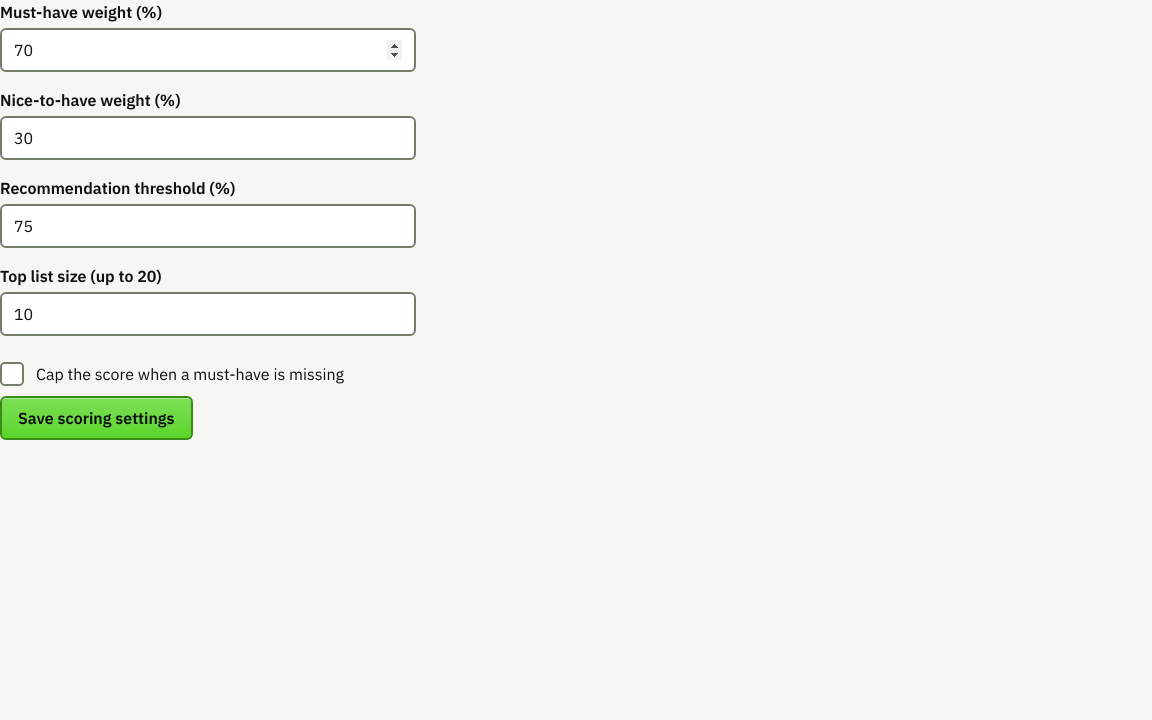
Test: scoring settings › saves every value and confirms in a popup
Expected: the number field showing "75" is shown, [0,204,416,248]
Replace the text in the number field labelled "Must-have weight (%)" with "60": {"x": 208, "y": 50} [0,28,416,72]
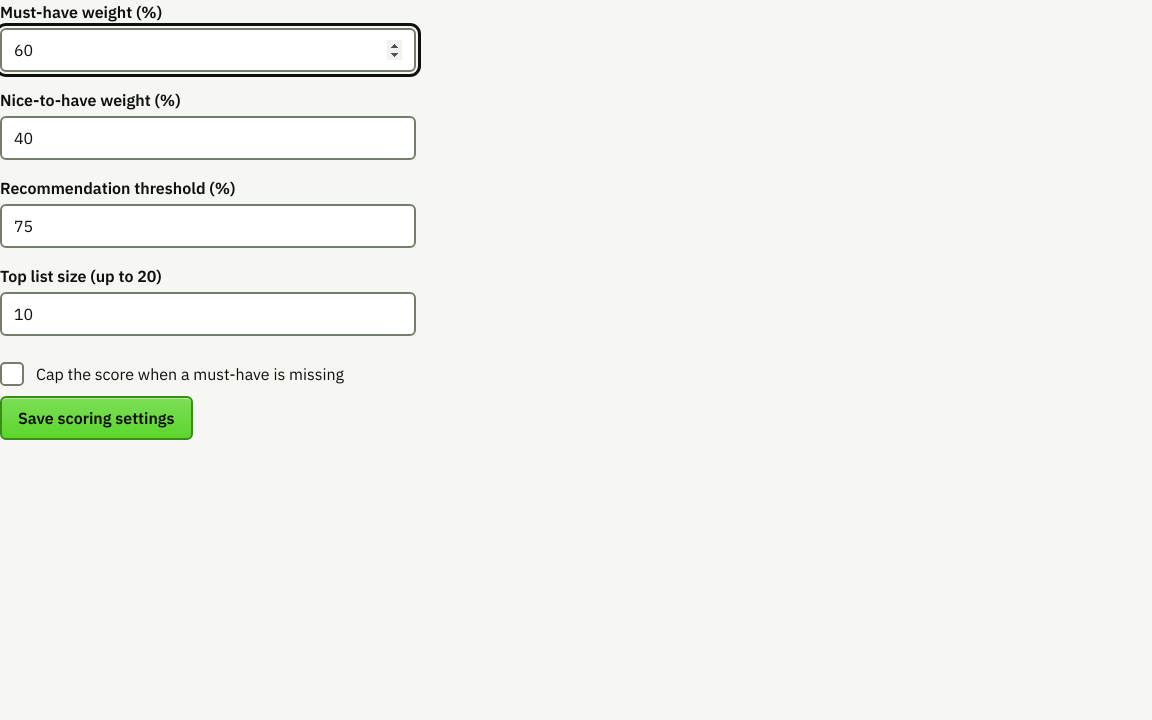
Replace the text in the number field labelled "Top list size (up to 20)" with "5": {"x": 208, "y": 314} [0,292,416,336]
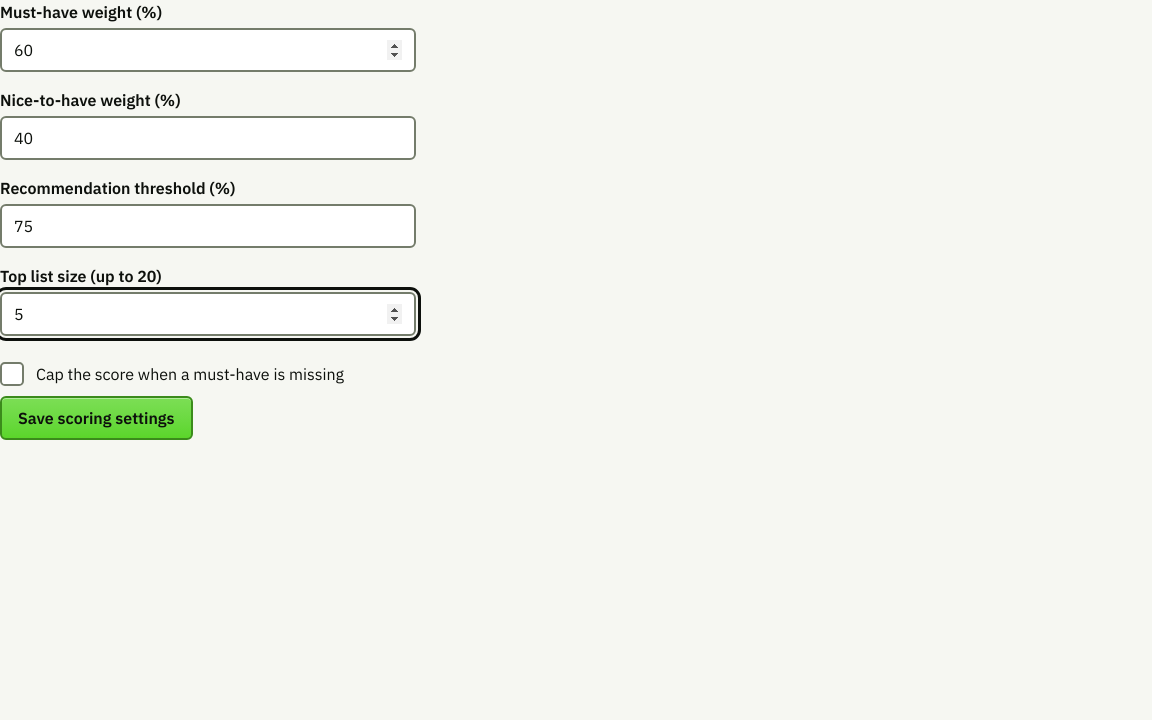
Click the button "Save scoring settings": {"x": 96, "y": 418} [0,396,192,440]
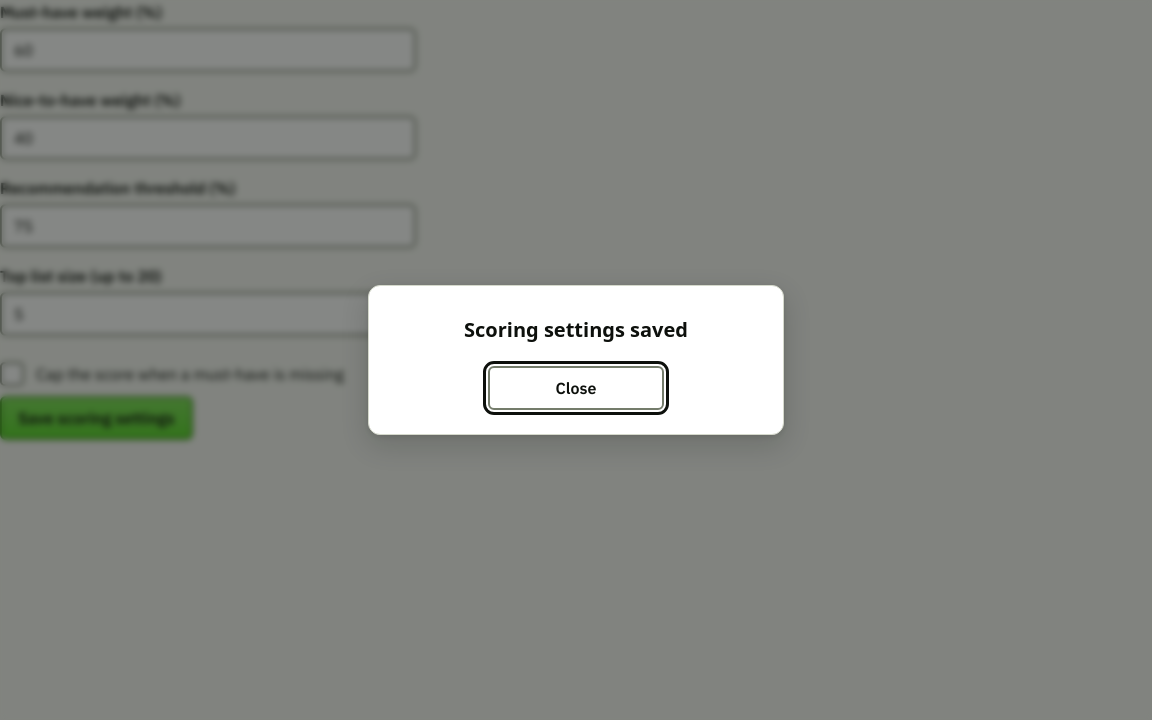
Result: the heading "Scoring settings saved" is shown at [464,316,688,343]
